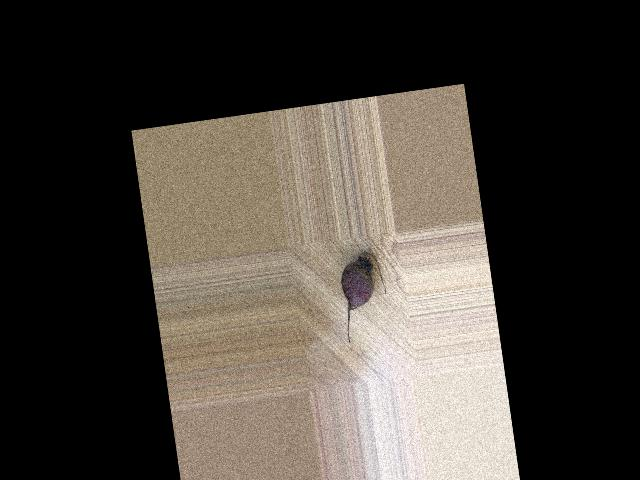beet: (336, 250, 392, 344)
